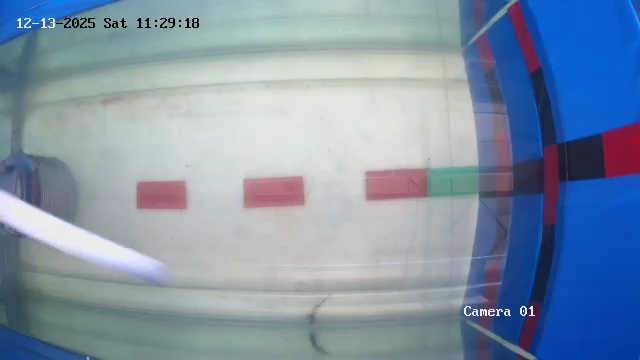fish: (291, 303, 339, 325)
